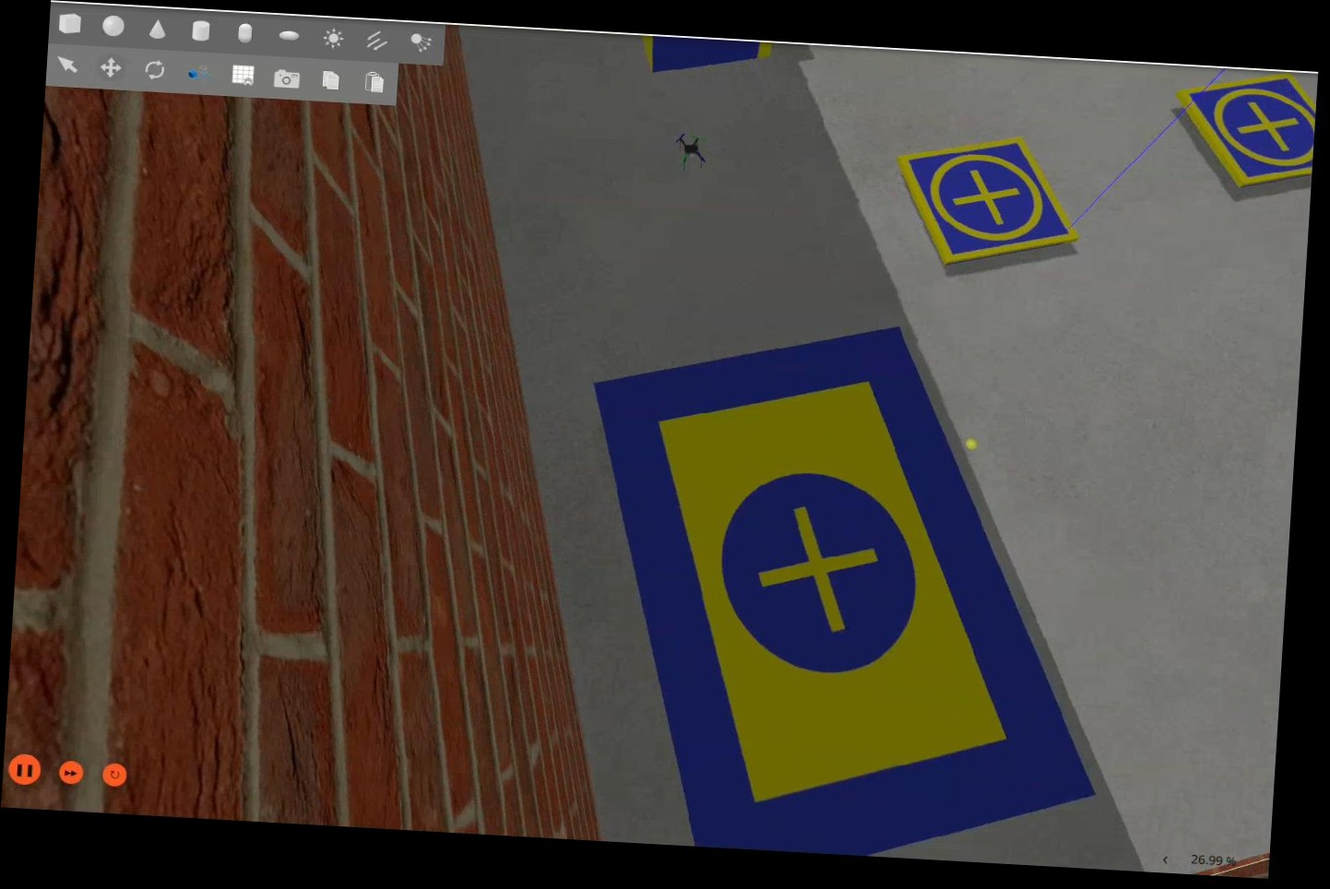large_base: (564, 307, 1120, 870)
small_base: (892, 130, 1081, 271), (1174, 68, 1315, 191)
